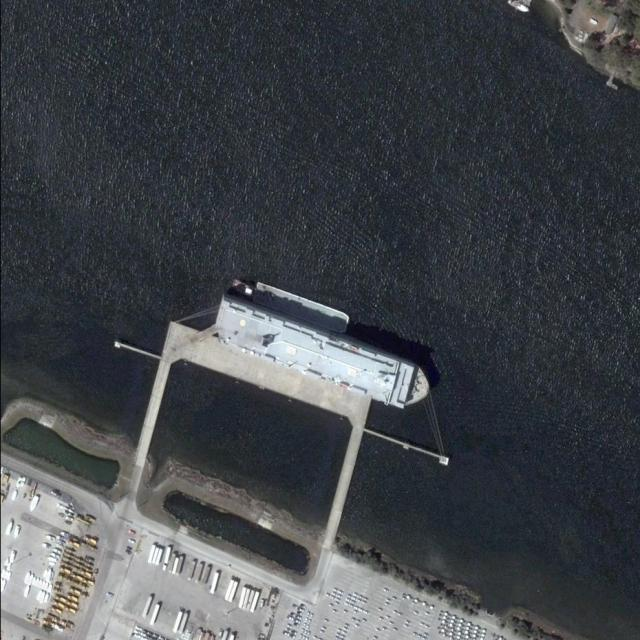Dock: (156, 321, 376, 425)
RoRo: (208, 299, 435, 412)
